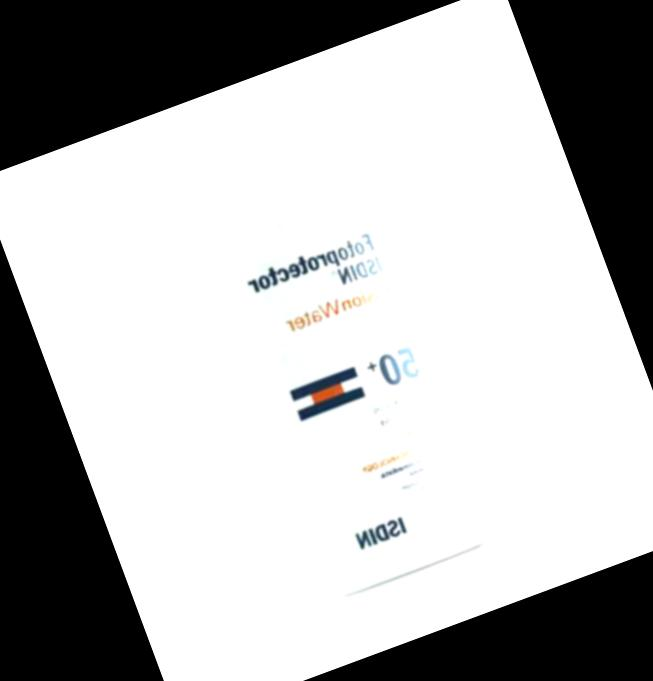cosmetic: (163, 103, 503, 607)
